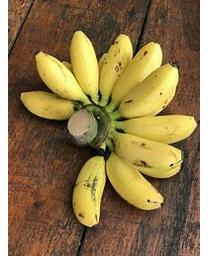banana: (17, 29, 197, 227)
